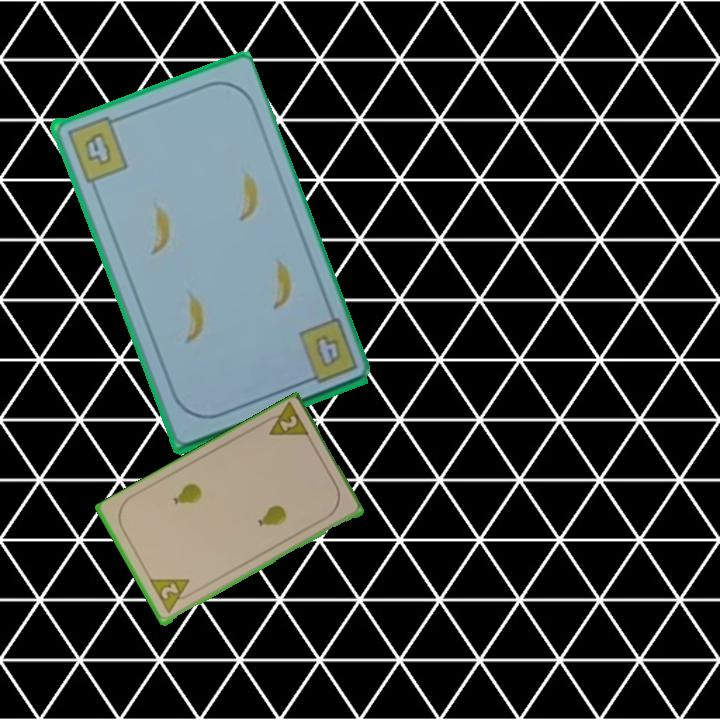2p: (258, 400, 313, 441), (146, 575, 197, 617)
4b: (62, 112, 130, 185), (294, 315, 360, 388)
